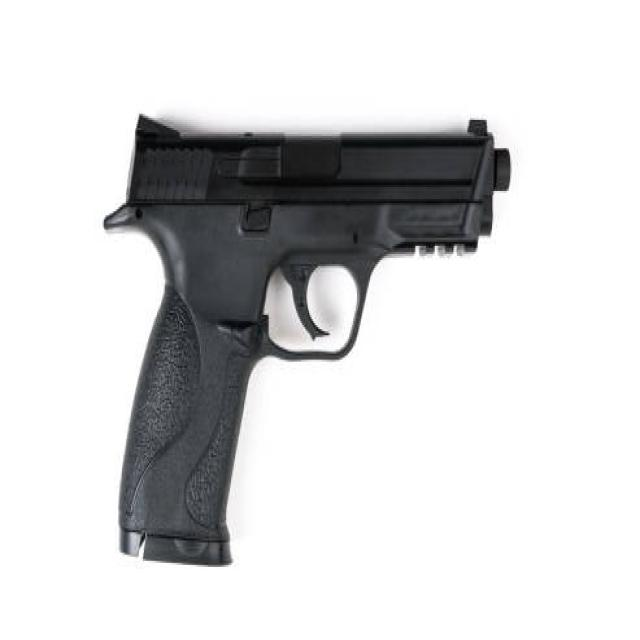pistol: (99, 98, 520, 574)
